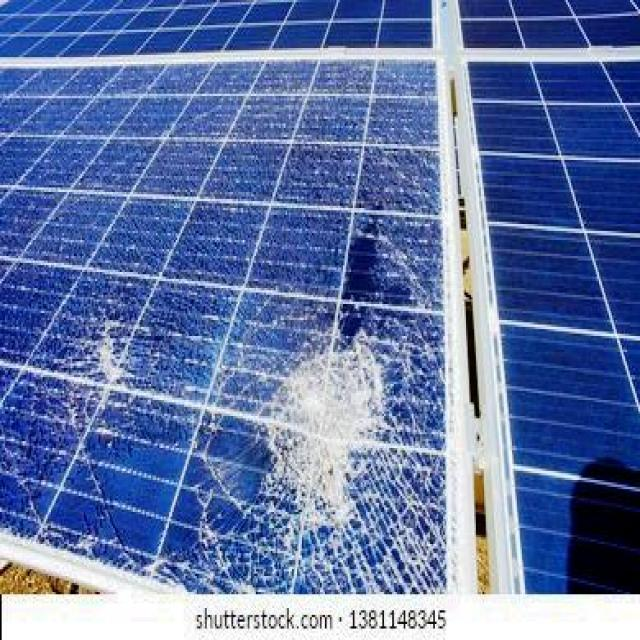faulty: (0, 48, 459, 596)
no faulty: (464, 54, 640, 591)
